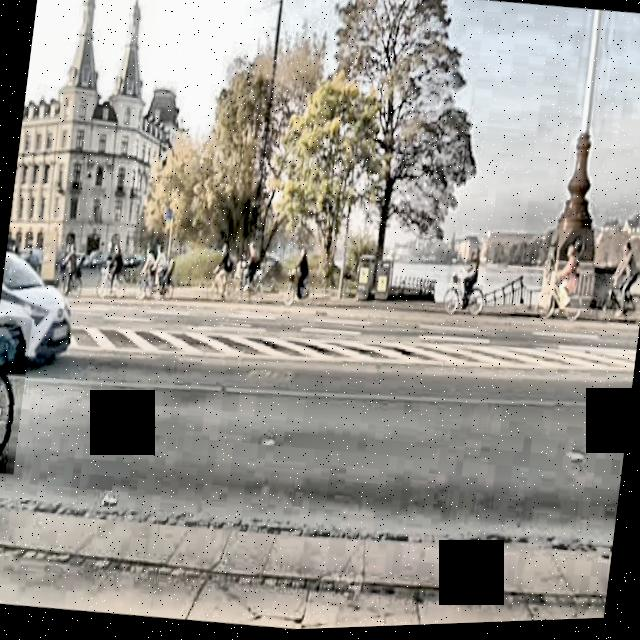bicycle: (0, 313, 32, 474)
